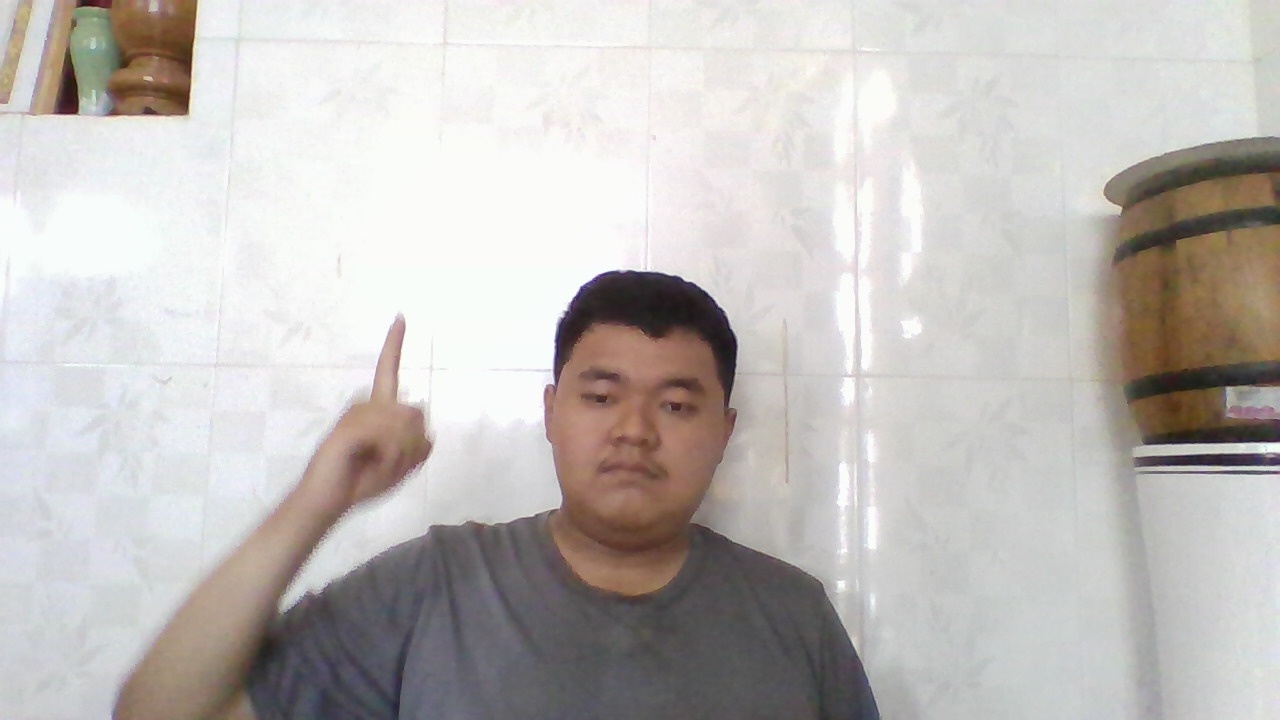D: (338, 302, 431, 483)
